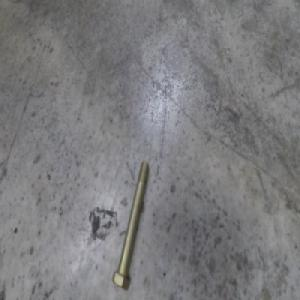Bolt: (110, 156, 147, 292)
